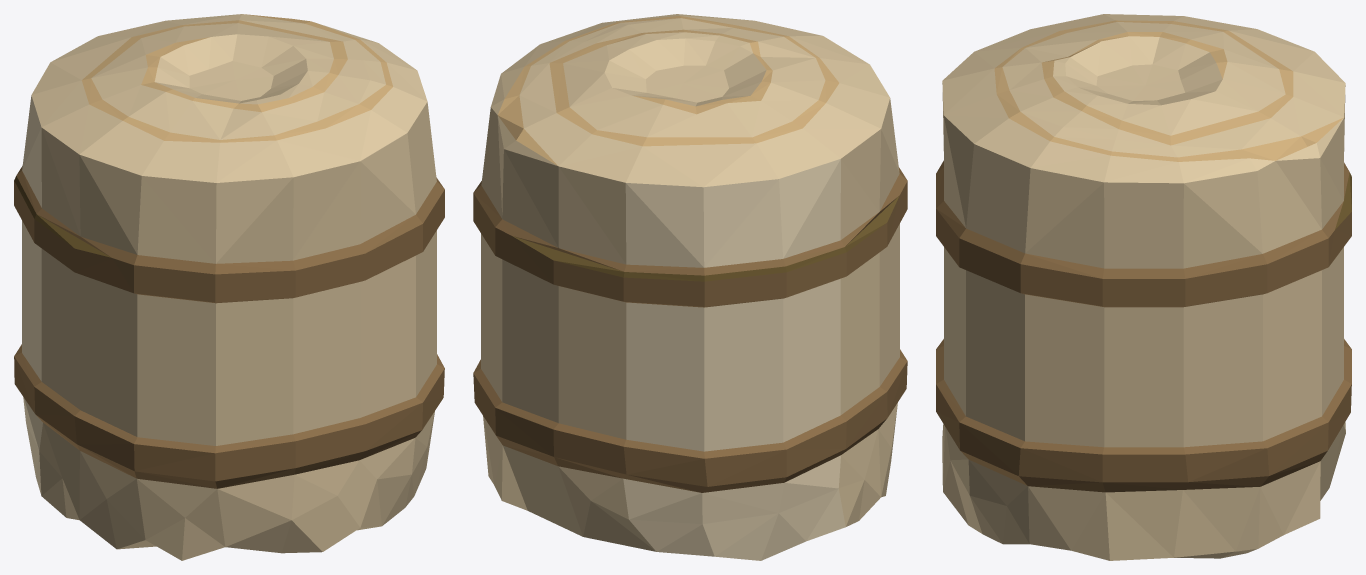
The model's file is EA_M_HayBale_Dry_01c.fbx.
3 views of the same model, side by side, from view 1: azimuth 30°, elevation 25°; view 2: azimuth 150°, elevation 25°; view 3: azimuth 270°, elevation 25° (orthographic). The views are drawn at different scales.
Parts seen in each view (by area): view 1: EA_M_HayBale_Dry_01c_LOD0; view 2: EA_M_HayBale_Dry_01c_LOD0; view 3: EA_M_HayBale_Dry_01c_LOD0.
Part boxes in pixels (x1=…): EA_M_HayBale_Dry_01c_LOD0: x1=14, y1=14, x2=444, y2=560; EA_M_HayBale_Dry_01c_LOD0: x1=473, y1=14, x2=907, y2=560; EA_M_HayBale_Dry_01c_LOD0: x1=936, y1=14, x2=1351, y2=560.
Size of what is drawn, in the model's own units: 1.99 by 2.33 by 1.99.
